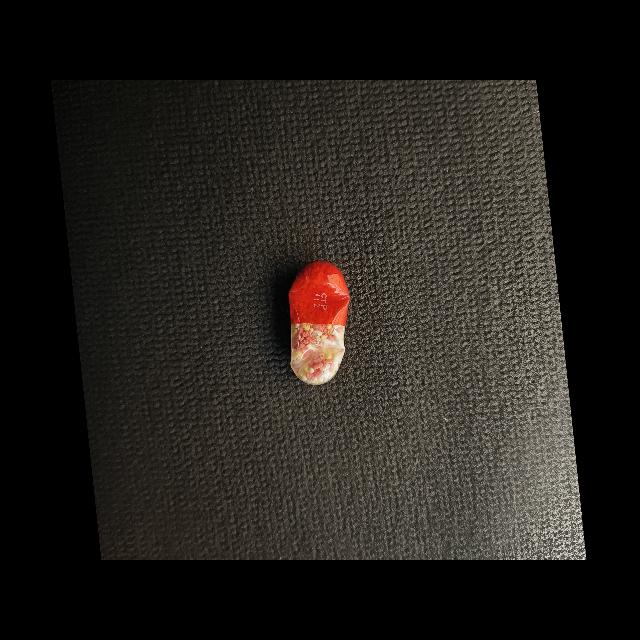Defective Capsule: (289, 261, 350, 385)
